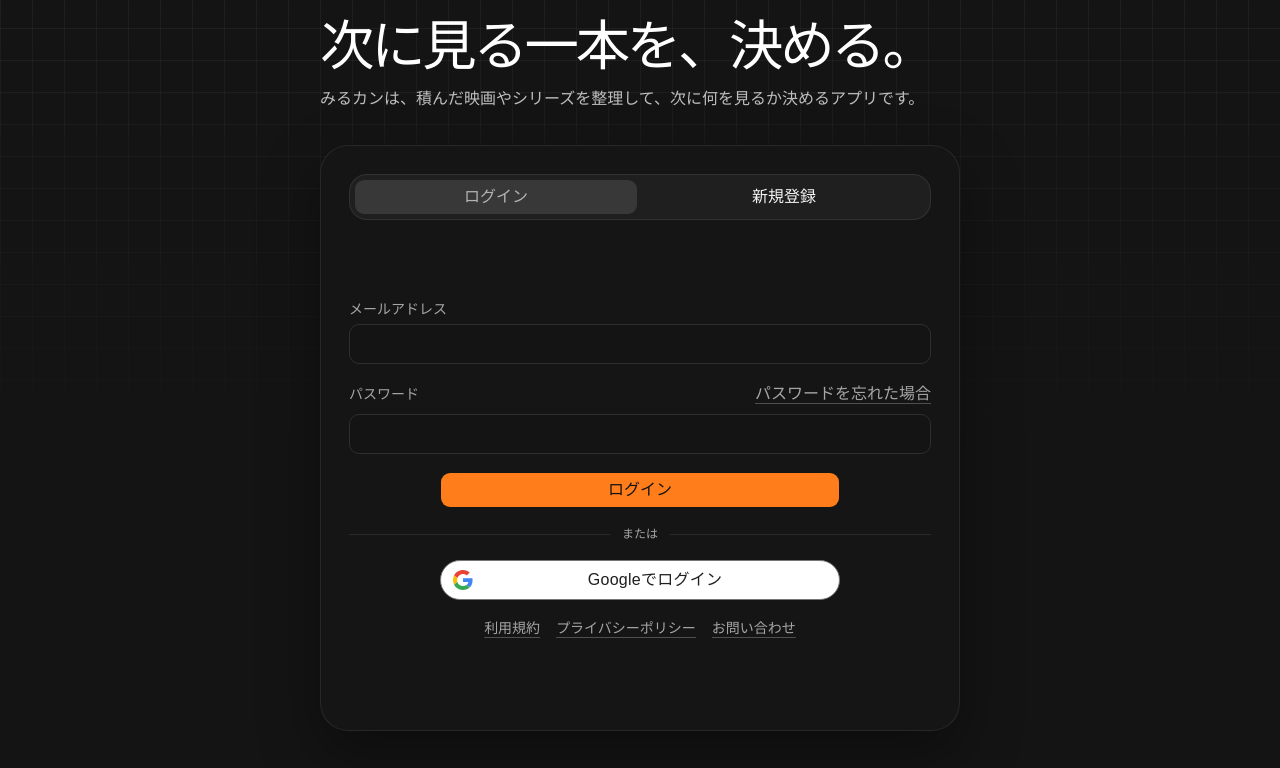
Test: LoginPage › 確認メール未完了の認証失敗は案内付き文言を表示する
The width and height of the screenshot is (1280, 768).
In the field labelled "メールアドレス": (640, 344) [349,324,931,364], type "akari@example.com"
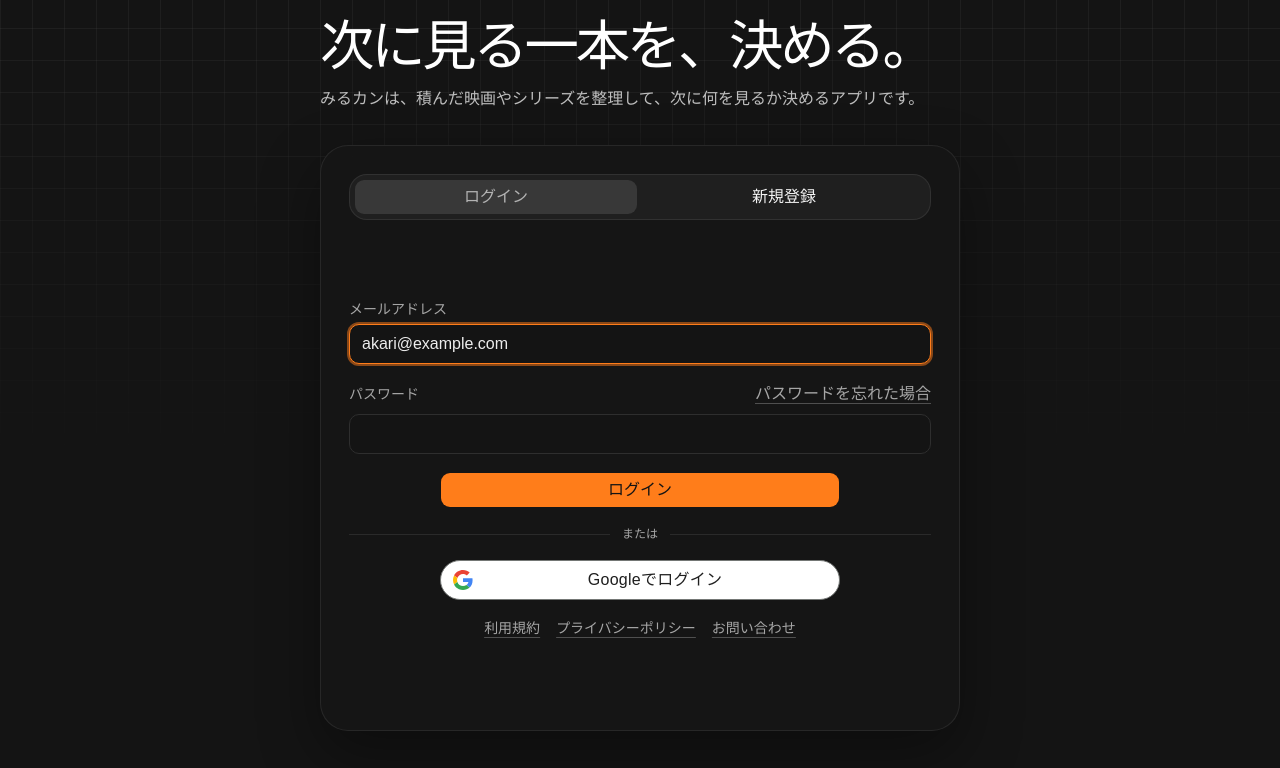
In the password field labelled "パスワード": (640, 434) [349,414,931,454], type "password123"
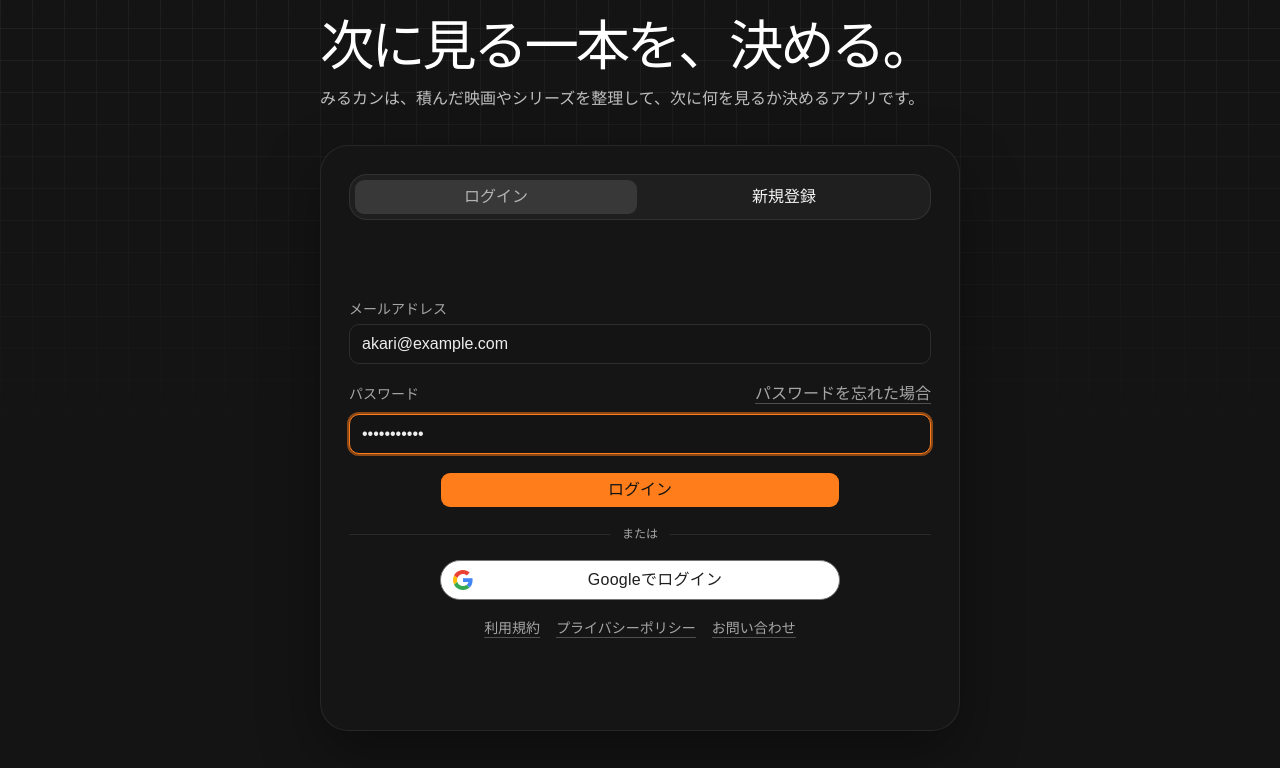
Click the button "ログイン" below "メールアドレス": (640, 490) [440,472,840,508]
(page scrolled)
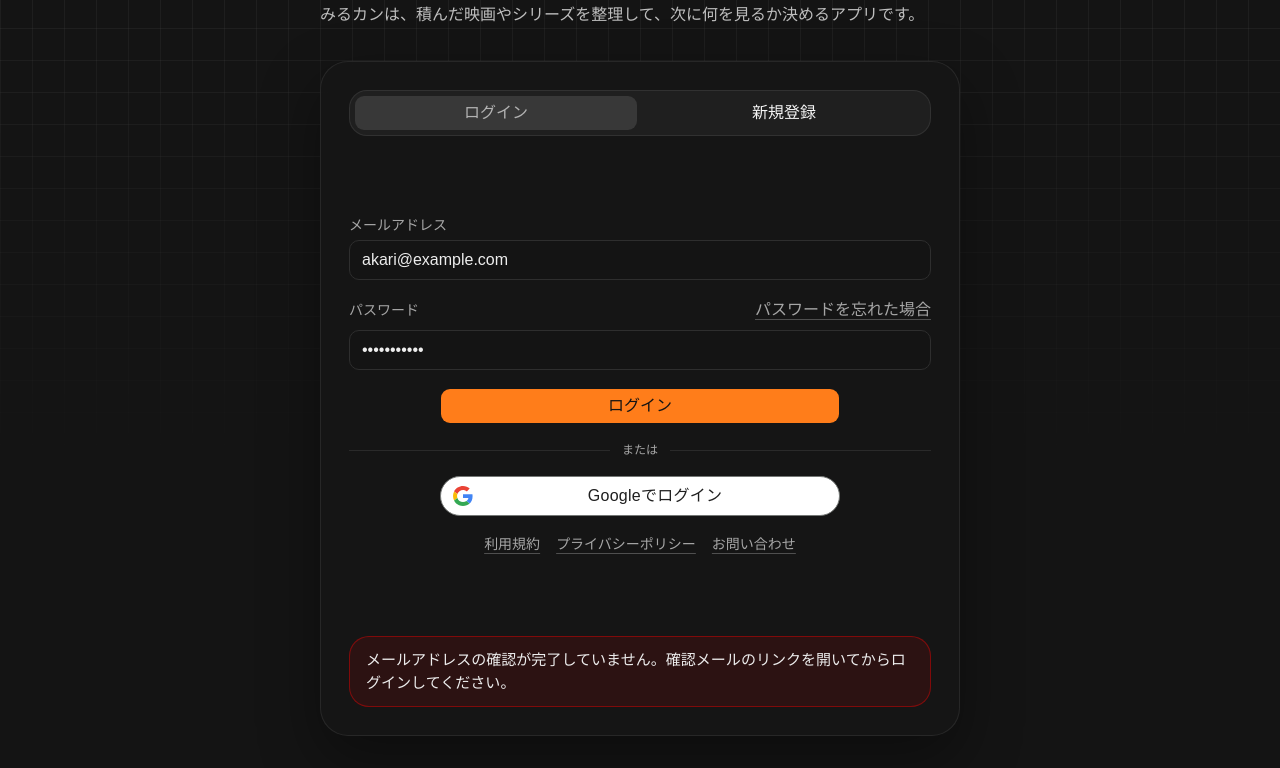
Now the text "メールアドレスの確認が完了していません。確認メールのリンクを開いてからログインしてください。" is shown, box [349,636,931,707]
